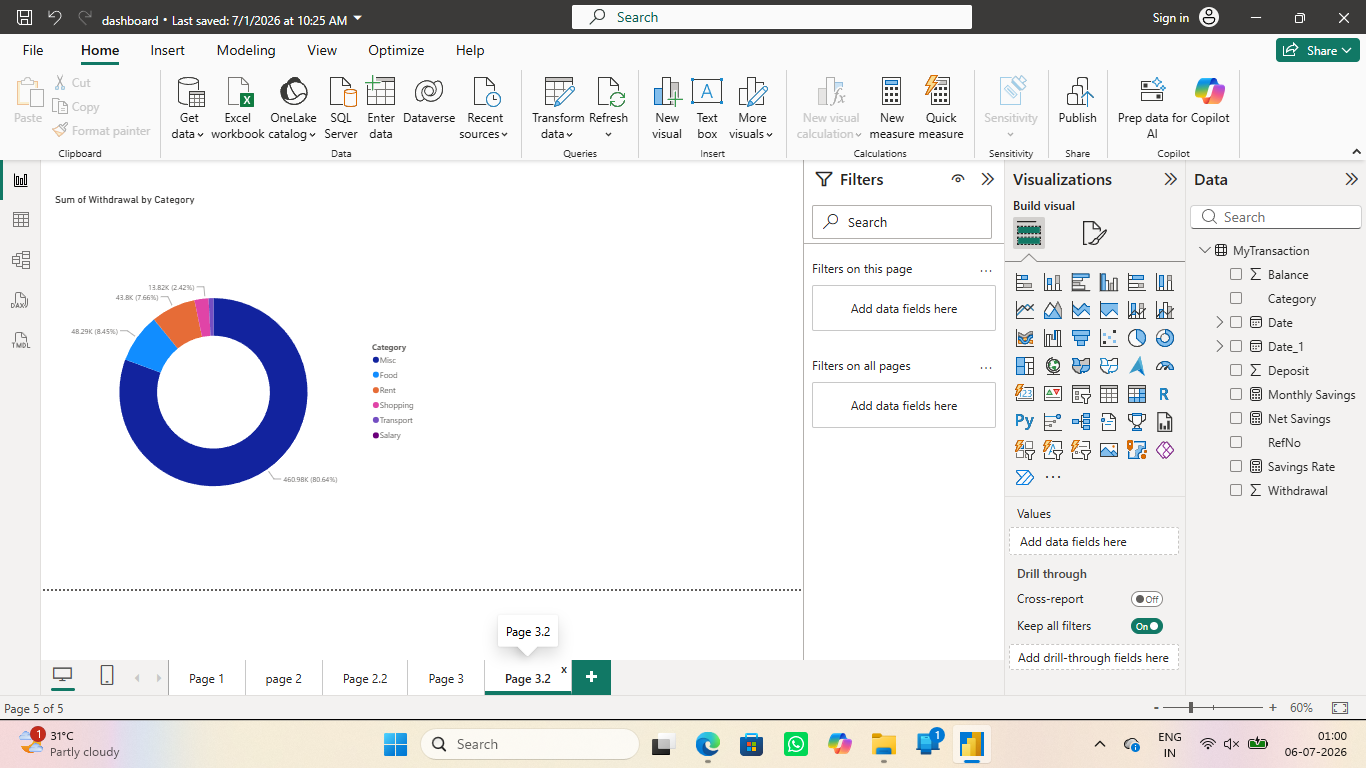

The dashboard page shown, as its layout file describes it:
{"tool":"powerbi","page":{"name":"Page 3.2","canvas":[1280,720],"ordinal":4},"visuals":[{"type":"donutChart","fields":{"Category":["MyTransaction.Category"],"Y":["Sum(MyTransaction.Withdrawal)"]},"box":[18.5,55.4,621.5,650.1],"z":0}]}

Visuals, with their boxes on the page's 1280x720 design canvas (x1, y1, x2, y2). These are canvas units, not pixel positions in the 1366x768 screenshot, which may show the page scaled, cropped or inside an application window:
donutChart - MyTransaction.Category x Sum(MyTransaction.Withdrawal): 18/55/640/706
